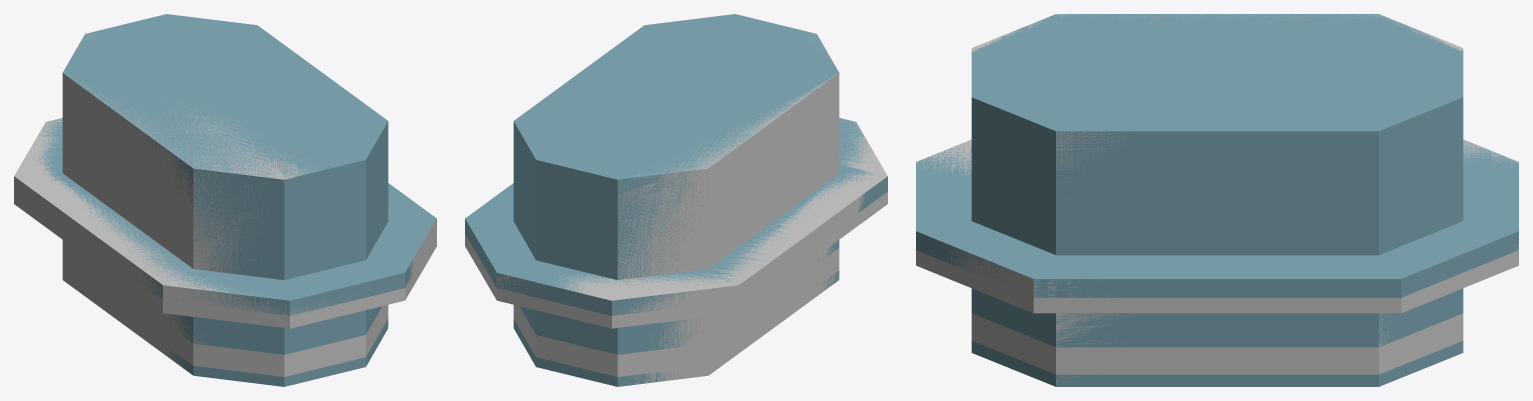
The model's file is SM_Building_12_Middle.fbx.
3 renders of one model, left to right at view 1: azimuth 30°, elevation 25°; view 2: azimuth 150°, elevation 25°; view 3: azimuth 270°, elevation 25°, orthographic. The views are drawn at different scales.
Visible parts, largest first — view 1: SM_Building_12_Middle, SM_Building_12_Middle_ConvexHulls; view 2: SM_Building_12_Middle, SM_Building_12_Middle_ConvexHulls; view 3: SM_Building_12_Middle, SM_Building_12_Middle_ConvexHulls.
Part boxes in pixels (left/top/right/bottom): SM_Building_12_Middle: left=34, top=14, right=436, bottom=386; SM_Building_12_Middle_ConvexHulls: left=14, top=33, right=436, bottom=376; SM_Building_12_Middle: left=465, top=14, right=887, bottom=386; SM_Building_12_Middle_ConvexHulls: left=465, top=32, right=887, bottom=384; SM_Building_12_Middle: left=916, top=14, right=1518, bottom=386; SM_Building_12_Middle_ConvexHulls: left=916, top=14, right=1518, bottom=381.
Bounding box in the file's own units: 553 × 855 × 400.
Materials: 2 (1 with a texture image).
